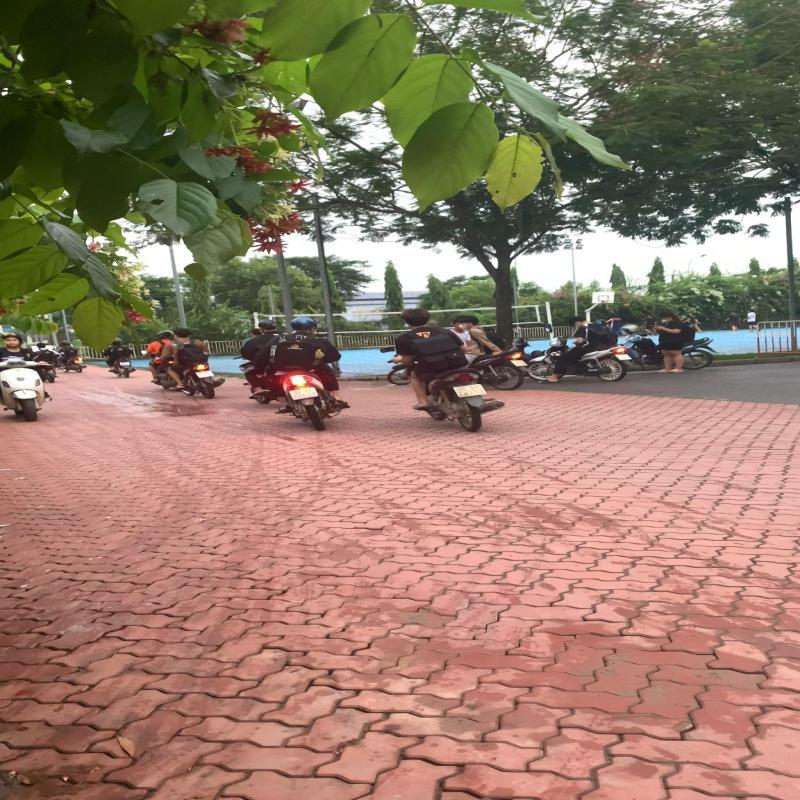helmet: (290, 316, 318, 332)
licenseplate: (450, 383, 489, 398), (288, 387, 320, 401), (194, 370, 215, 379)
motorcyclist: (376, 306, 507, 433), (260, 315, 352, 432), (154, 326, 228, 400)
nohelmet: (399, 307, 432, 327), (456, 316, 480, 330), (173, 327, 191, 339)
